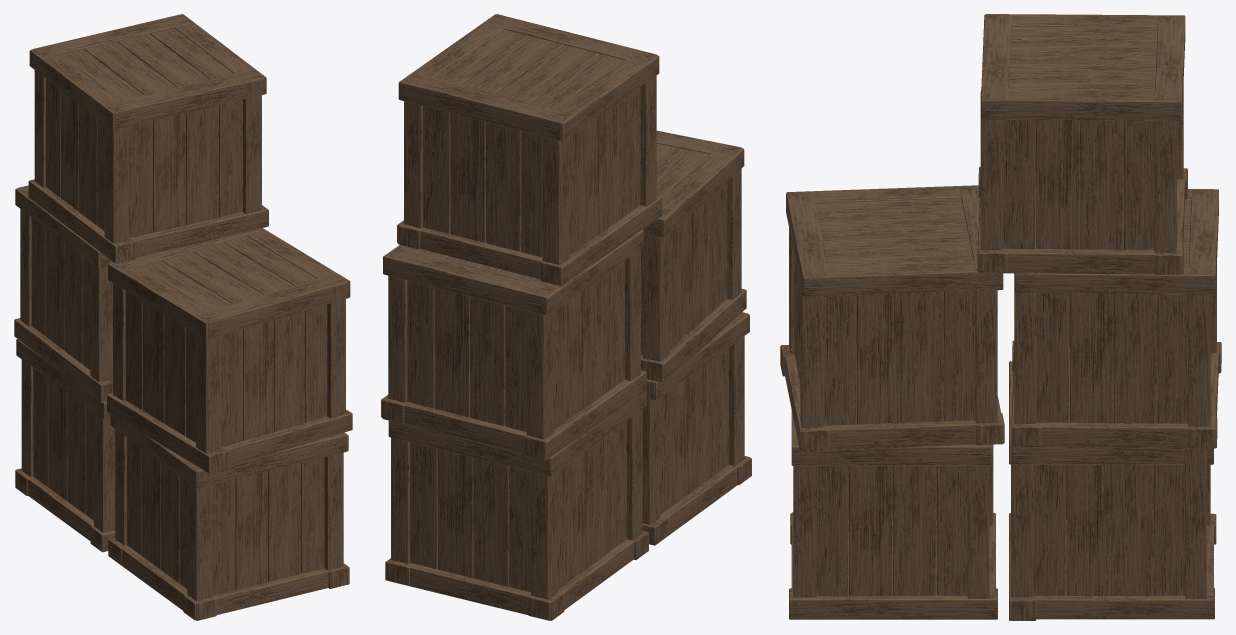
File: SM_crate_group_01.fbx
The picture shows the model from 3 angles, left to right: view 1: azimuth 30°, elevation 25°; view 2: azimuth 150°, elevation 25°; view 3: azimuth 270°, elevation 25°; orthographic projection. The views are drawn at different scales.
Parts seen in each view (by area): view 1: SM_crate_group_01; view 2: SM_crate_group_01; view 3: SM_crate_group_01.
Boxes of the visible parts, left/top/right/bottom form: SM_crate_group_01: left=14, top=14, right=352, bottom=620; SM_crate_group_01: left=381, top=14, right=751, bottom=620; SM_crate_group_01: left=780, top=14, right=1221, bottom=620.
Size of the model in its own units: 68.37 by 136 by 176.
1 material, 1 textured.
